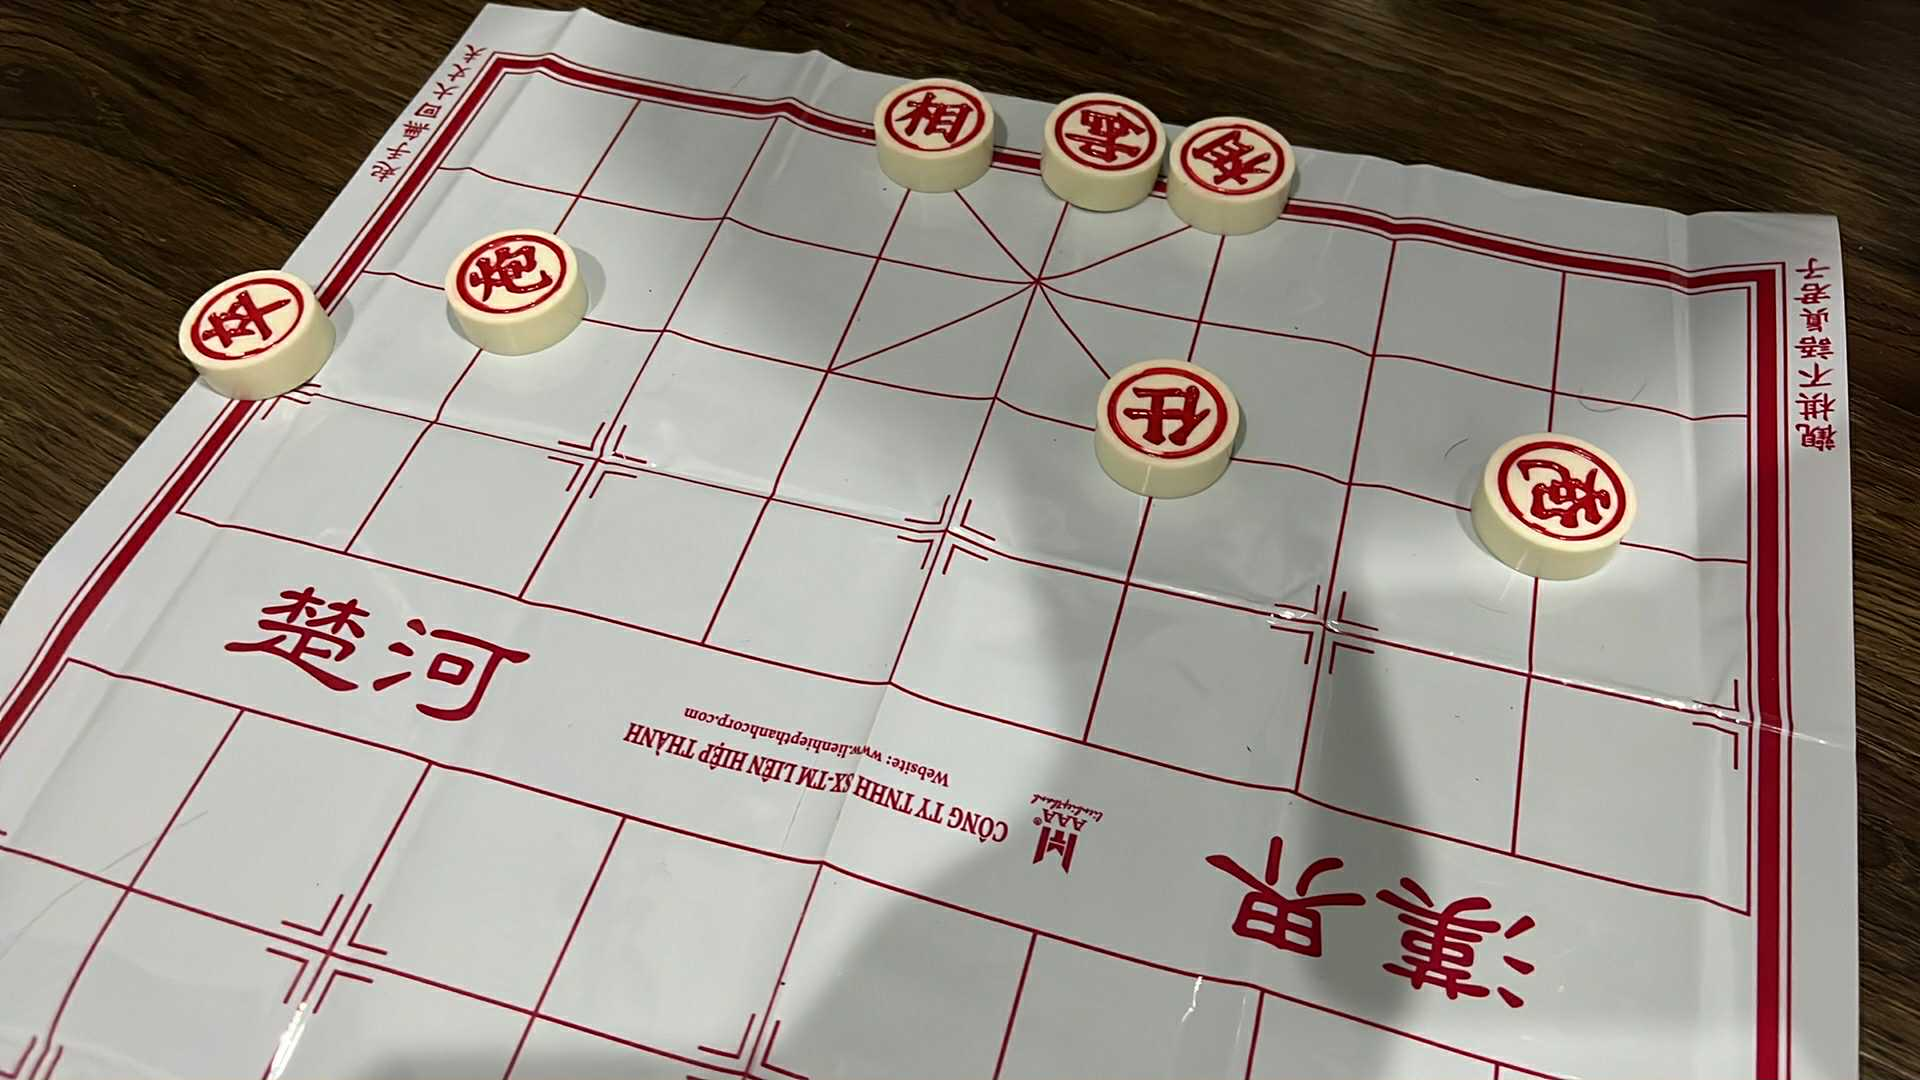red-advisor: (1098, 358, 1244, 469)
red-cannon: (1483, 431, 1637, 554), (444, 226, 578, 327)
red-elephant: (1169, 112, 1298, 206), (874, 76, 993, 164)
red-general: (1044, 89, 1164, 183)
red-soldier: (180, 268, 314, 372)
